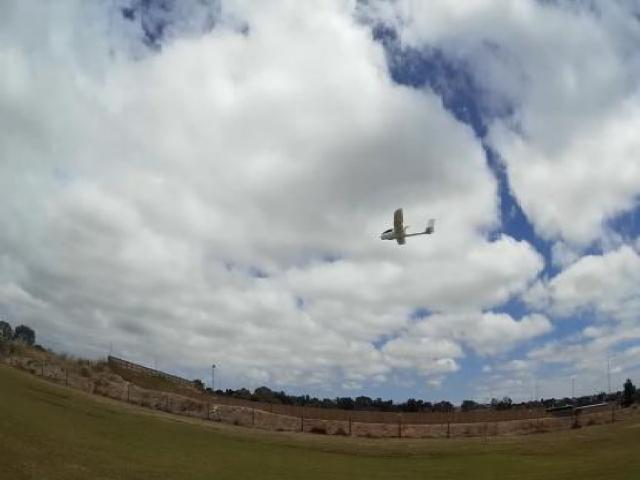uav: (373, 199, 442, 256)
